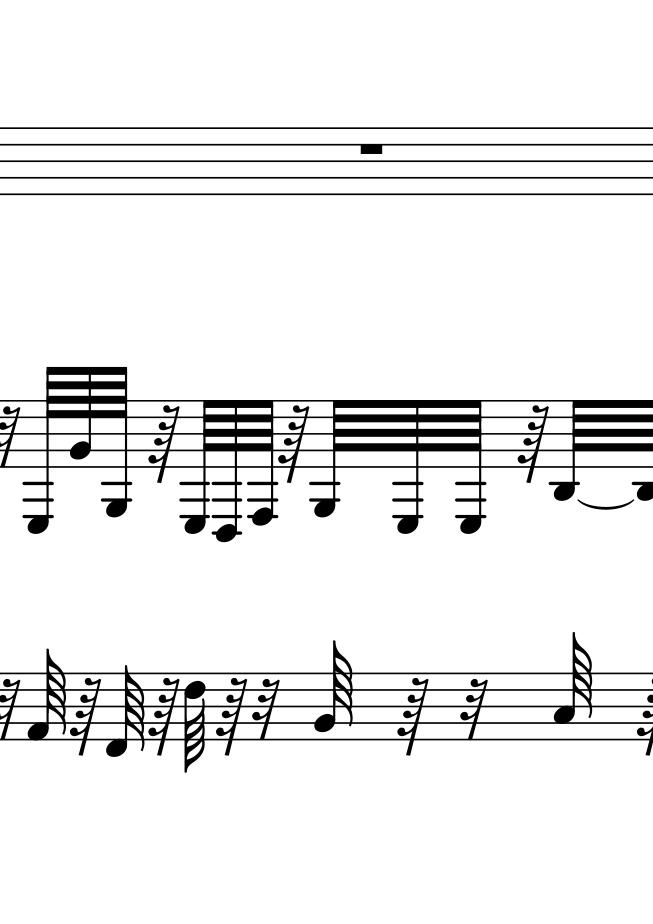64_-1: (104, 665, 146, 758)
64_-3: (551, 400, 587, 501)
64_-5: (101, 366, 131, 518), (311, 400, 344, 518)
64_-6: (246, 399, 279, 526)
64_-7: (24, 365, 62, 535), (181, 399, 213, 534), (391, 398, 423, 533), (452, 399, 484, 534)
64_-8: (213, 399, 243, 542)
64_1: (27, 648, 68, 741)
64_2: (313, 640, 354, 742), (67, 366, 93, 469)
64_3: (554, 633, 594, 742)
64_6: (181, 673, 207, 774)
Rests1: (356, 141, 386, 157)
Rests32: (458, 676, 489, 740), (251, 676, 282, 740)
Rests64: (147, 401, 181, 485), (277, 403, 310, 485), (516, 403, 549, 485), (397, 676, 430, 758), (214, 675, 247, 757), (148, 675, 181, 757), (69, 674, 102, 756)
